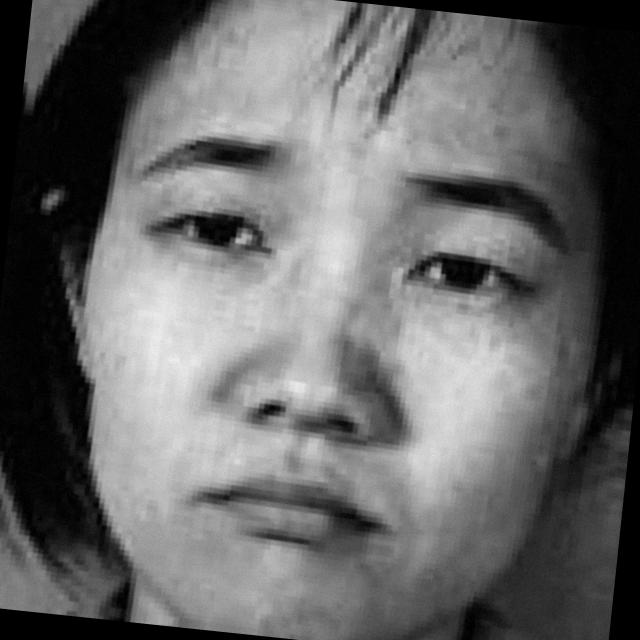sad: (51, 49, 599, 640)
